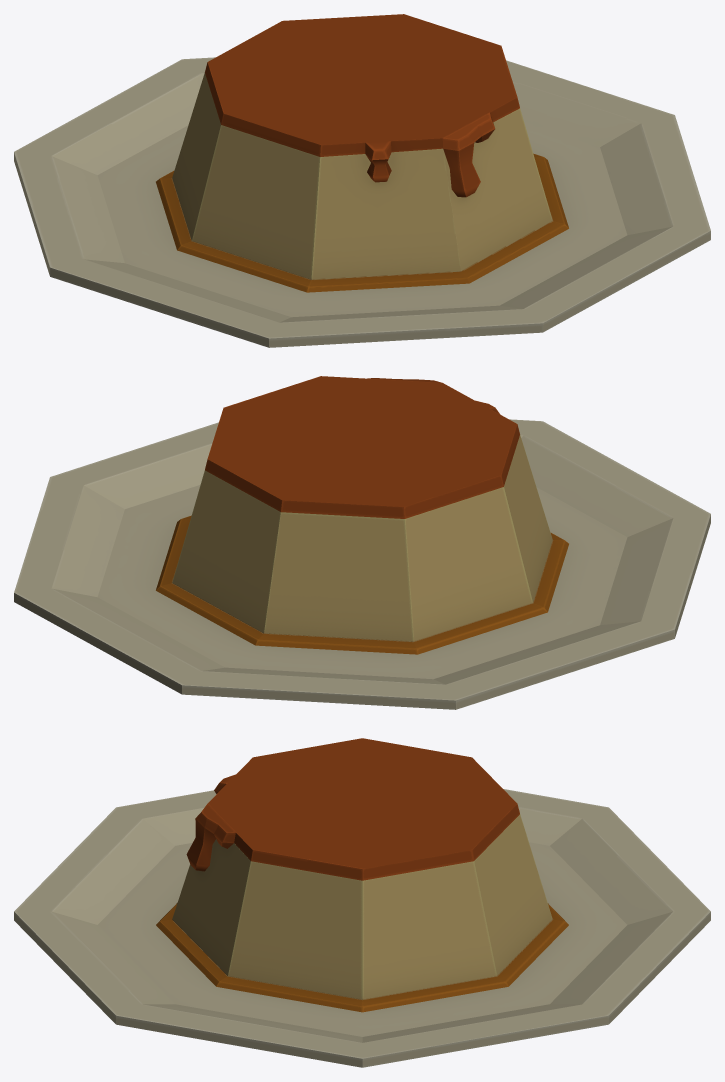
File: Flan.gltf
3 renders of one model, top to bottom at view 1: azimuth 30°, elevation 25°; view 2: azimuth 150°, elevation 25°; view 3: azimuth 270°, elevation 25°, orthographic. The views are drawn at different scales.
Visible parts, largest first — view 1: node-0; view 2: node-0; view 3: node-0.
Part boxes in pixels (x1,y1,x2,y2): node-0: (14, 14, 710, 347); node-0: (14, 376, 710, 709); node-0: (14, 738, 710, 1067).
Bounding box in the file's own units: 11.32 × 2.72 × 11.32.
1 material, 1 textured.
